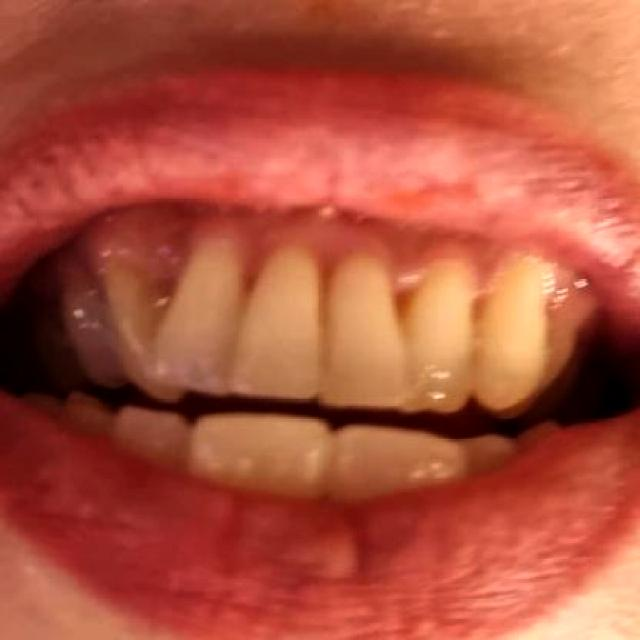Plaque: (384, 222, 575, 316)
